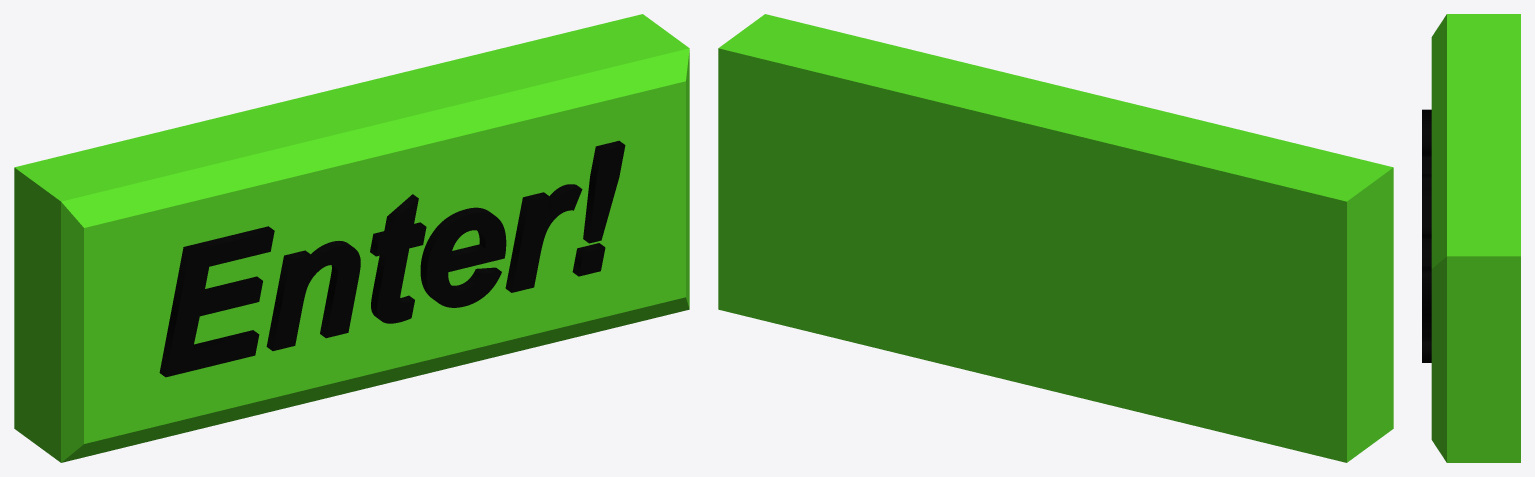
Rendered from TR_EnterButton.fbx.
3 renders of one model, left to right at view 1: azimuth 30°, elevation 25°; view 2: azimuth 150°, elevation 25°; view 3: azimuth 270°, elevation 25°, orthographic. The views are drawn at different scales.
Parts seen in each view (by area): view 1: Enter_Button; view 2: Enter_Button; view 3: Enter_Button.
Part boxes in pixels (x1,y1,x2,y2): Enter_Button: (14,14,689,462); Enter_Button: (718,14,1393,462); Enter_Button: (1422,14,1520,462).
Bounding box in the file's own units: 347 × 138 × 59.9.
